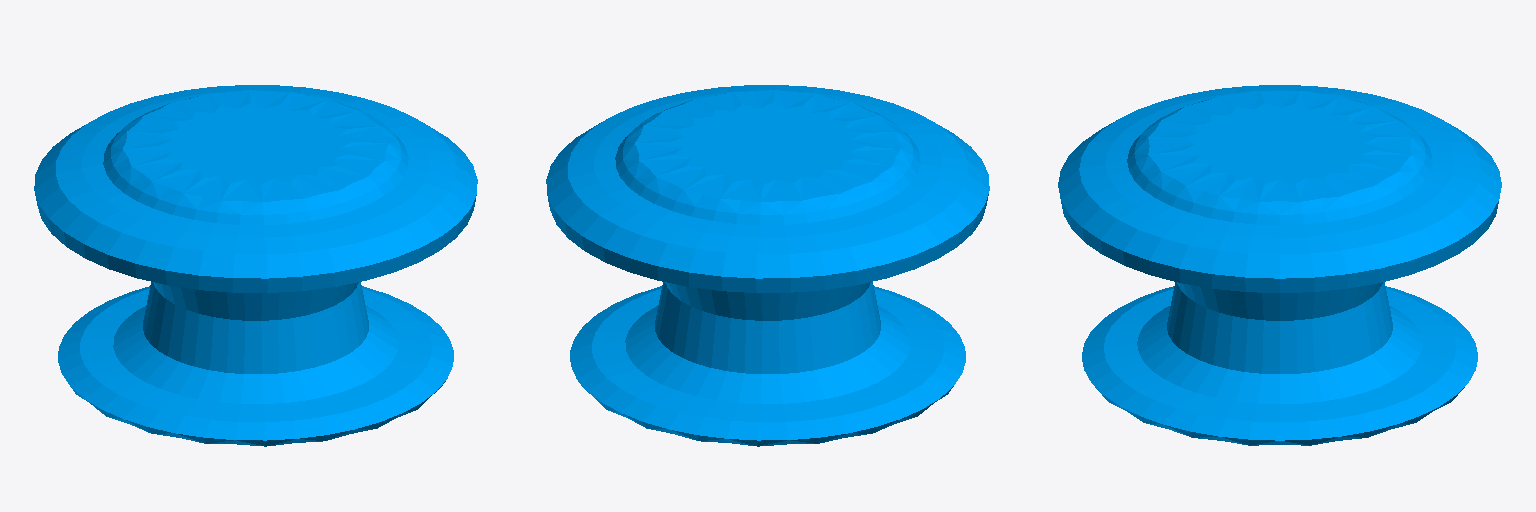
File: Bumper.obj
3 renders of one model, left to right at view 1: azimuth 30°, elevation 25°; view 2: azimuth 150°, elevation 25°; view 3: azimuth 270°, elevation 25°, orthographic.
Parts seen in each view (by area): view 1: pCylinder1; view 2: pCylinder1; view 3: pCylinder1.
Part boxes in pixels (x1,y1,x2,y2): pCylinder1: (34, 85, 477, 446); pCylinder1: (546, 85, 989, 446); pCylinder1: (1058, 85, 1501, 445).
Size of the model in its own units: 12.49 by 6.96 by 12.49.